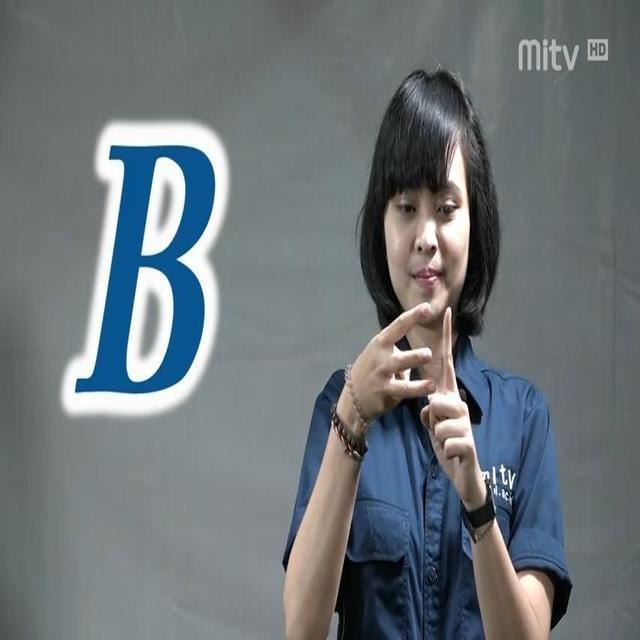B: (348, 290, 480, 484)
